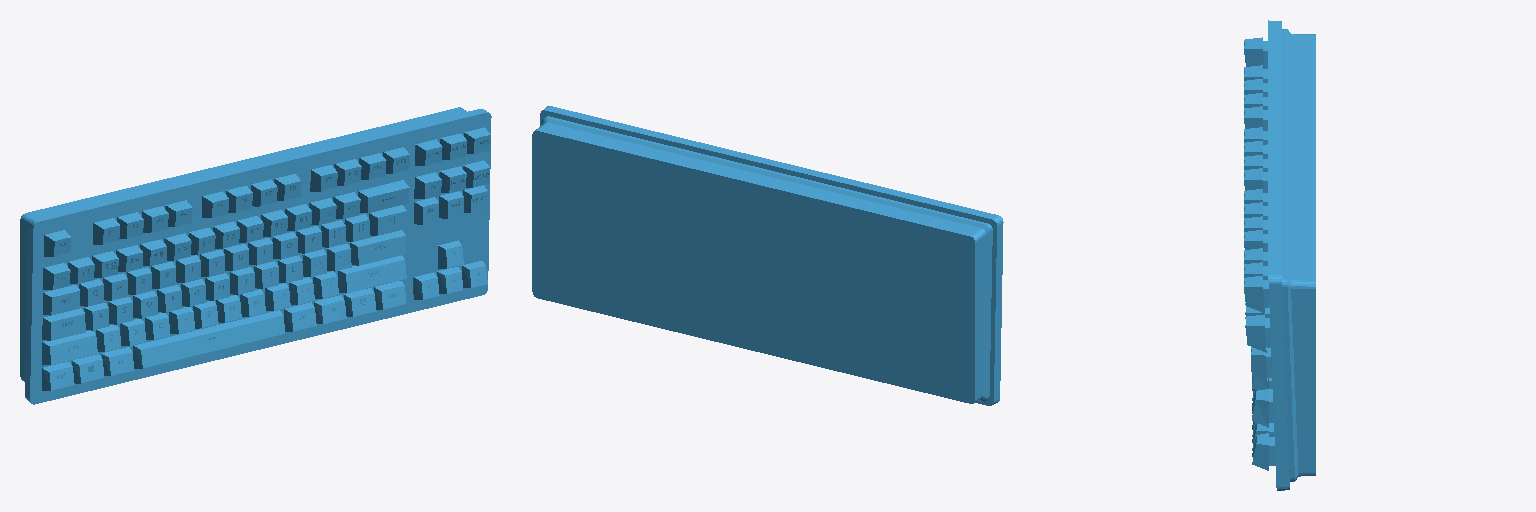
robot.urdf — keyboard:
<?xml version="1.0"?>
<robot name="keyboard" xmlns:xacro="http://www.ros.org/wiki/xacro">
  <link name="world"/>

  <link name="keyboard_link">
    <visual>
      <origin xyz="0 0 0" rpy="0 0 0"/>
      <geometry>
        <mesh filename="package://arm26_gazebo/meshes/keyboard.obj" scale="1 1 1"/>
      </geometry>
    </visual>
    <collision>
      <origin xyz="0 0 0" rpy="0 0 0"/>
      <geometry>
        <box size="0.66 0.06 0.64"/>
      </geometry>
    </collision>
    <inertial>
      <mass value="0.5"/>
      <origin xyz="0 0 0" rpy="0 0 0"/>
      <inertia ixx="0.001" ixy="0" ixz="0" iyy="0.001" iyz="0" izz="0.001"/>
    </inertial>
  </link>

  <joint name="keyboard_fixed" type="fixed">
    <origin xyz="0 0 0" rpy="0 0 0"/>
    <parent link="world"/>
    <child link="keyboard_link"/>
  </joint>
</robot>

--- What the picture shows (computed from the rendered views, not written in the file) ---
3 views of the same robot in one strip: view 1: azimuth 30°, elevation 25°; view 2: azimuth 150°, elevation 25°; view 3: azimuth 270°, elevation 25° (orthographic).
Robot: keyboard — 2 links, 1 joints (1 fixed); root link world; default pose: all joints at 0.
Links seen in each view (by area): view 1: keyboard_link; view 2: keyboard_link; view 3: keyboard_link.
Boxes of the visible links, <box> form: keyboard_link: <box>20,107,491,404</box>; keyboard_link: <box>532,106,1003,405</box>; keyboard_link: <box>1244,20,1315,490</box>.
Size in the robot's own frame: 0.361 by 0.0426 by 0.1394 metres.
1 mesh visuals loaded from 1 distinct referenced files (1 OBJ).
